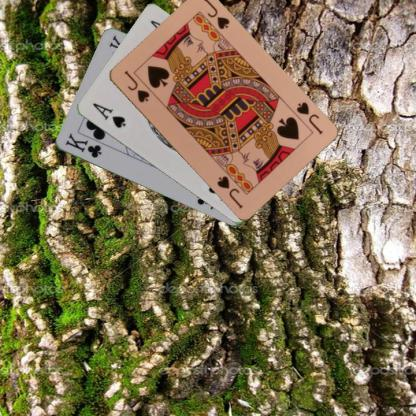As: (90, 100, 127, 129)
Js: (294, 99, 324, 136), (121, 68, 151, 104)
Kc: (62, 130, 103, 160)
